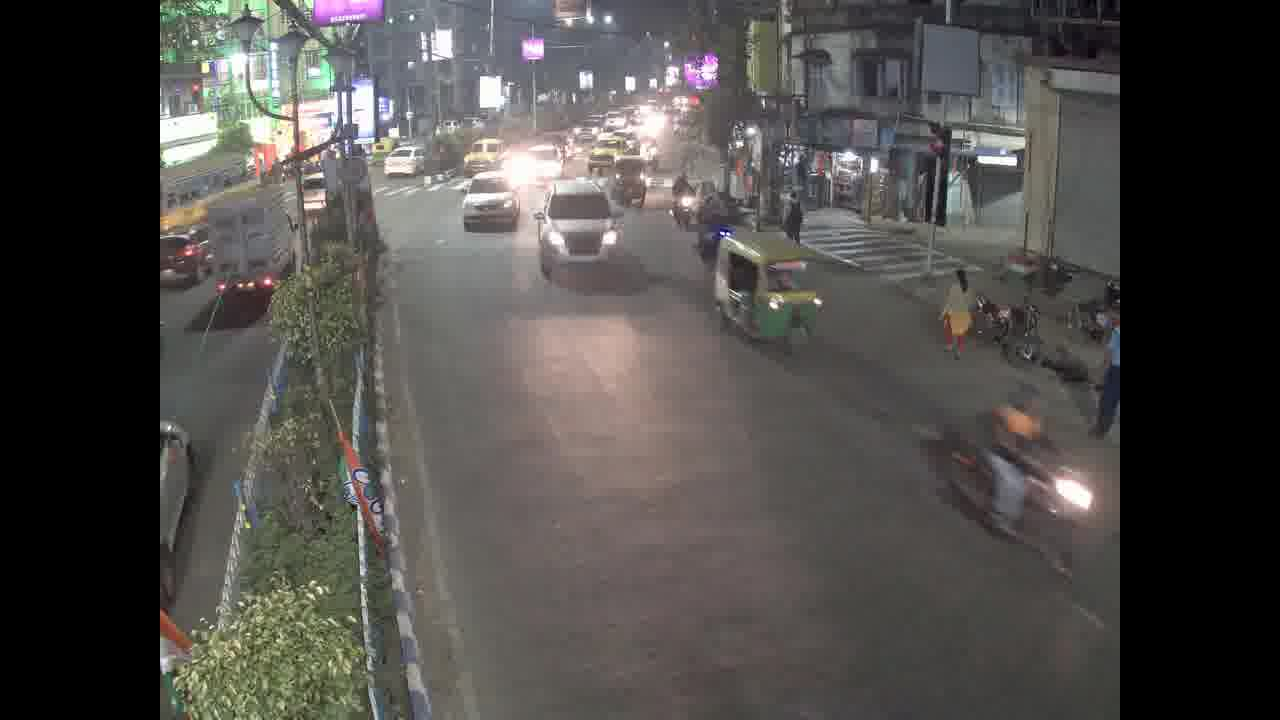auto-rickshaw: (716, 232, 821, 352), (609, 154, 648, 209)
bike: (907, 392, 1102, 574)
car: (545, 183, 618, 274), (452, 173, 525, 234), (462, 133, 505, 174)
person: (981, 378, 1041, 512), (929, 271, 981, 350), (777, 188, 817, 244)
